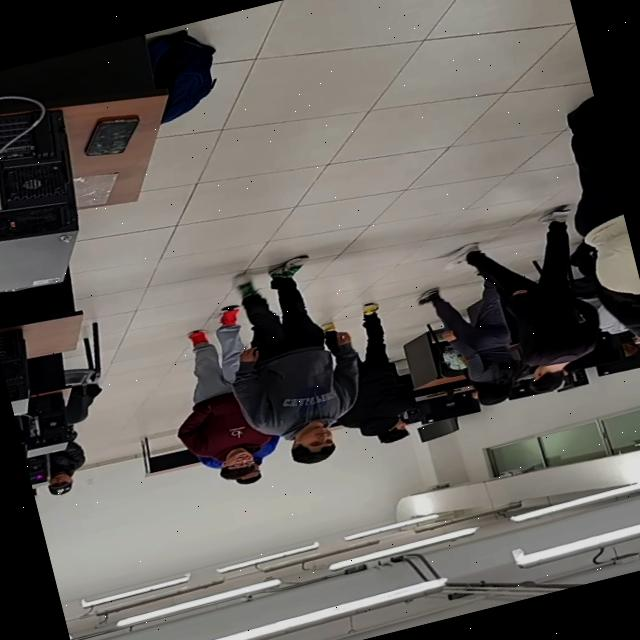Persona: (221, 244, 374, 475), (150, 306, 278, 494), (489, 206, 608, 396), (569, 106, 640, 332), (326, 298, 421, 453), (430, 266, 524, 414)
